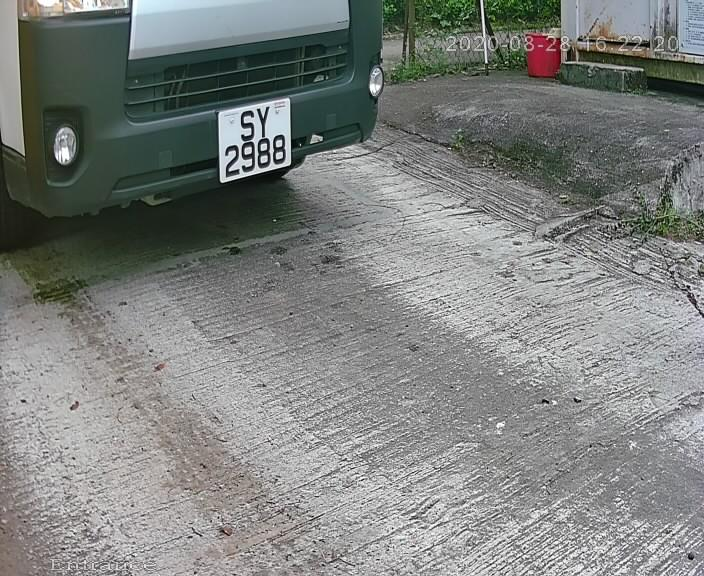Car: (7, 3, 447, 278)
License Plate: (208, 91, 302, 188)
